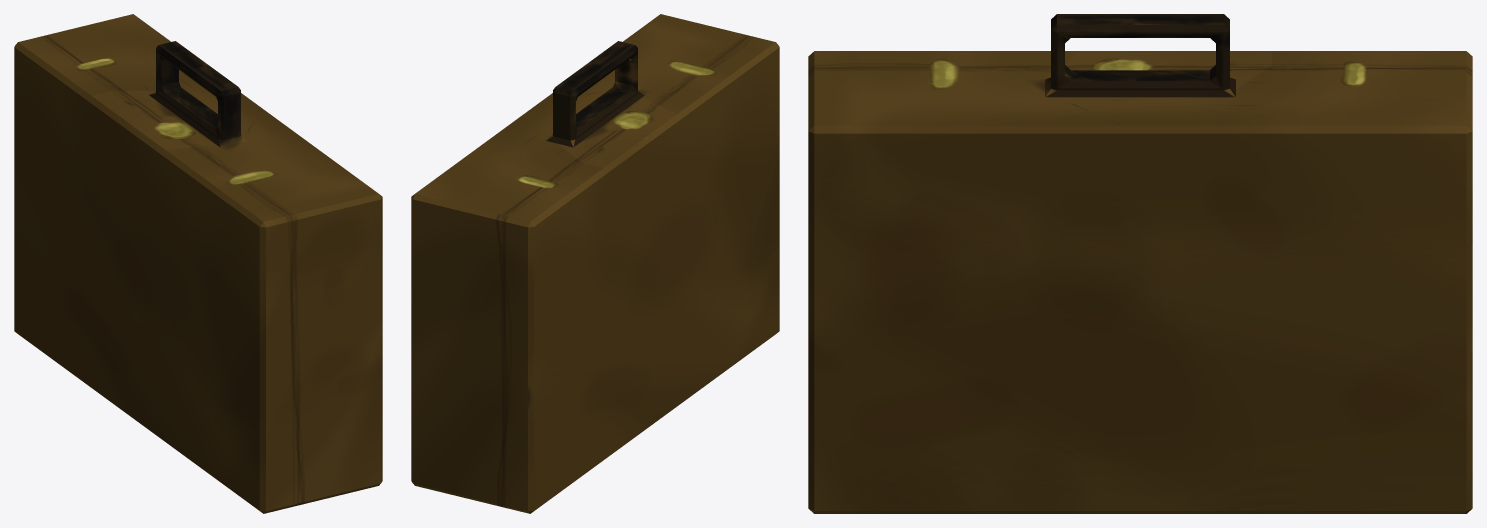
Rendered from Briefcase.fbx.
The picture shows the model from 3 angles, left to right: view 1: azimuth 30°, elevation 25°; view 2: azimuth 150°, elevation 25°; view 3: azimuth 270°, elevation 25°; orthographic projection. The views are drawn at different scales.
Parts seen in each view (by area): view 1: Briefcase; view 2: Briefcase; view 3: Briefcase.
Part boxes in pixels (x1,y1,x2,y2): Briefcase: (14, 14, 382, 513); Briefcase: (411, 14, 779, 513); Briefcase: (808, 14, 1472, 513).
Bounding box in the file's own units: 19.29 × 67.91 × 51.56.
